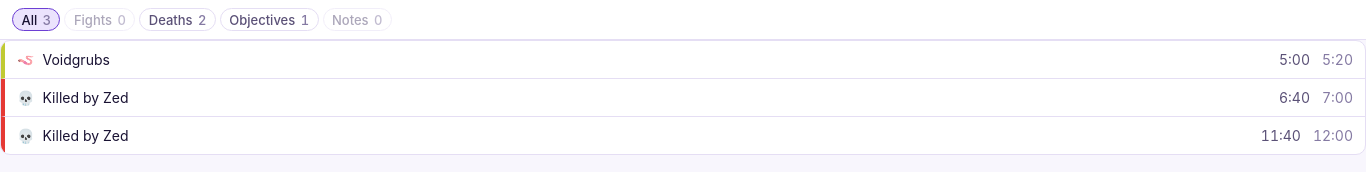
Test: the Events tab › filters to one kind of event, and counts each
This screenshot has width=1366, height=172.
What coordinates should you click on to do the following:
click the button with class "event-filter" showing "Deaths 2"
I would click on:
 (178, 20)
Its box is top-left (139, 8), bottom-right (216, 31).
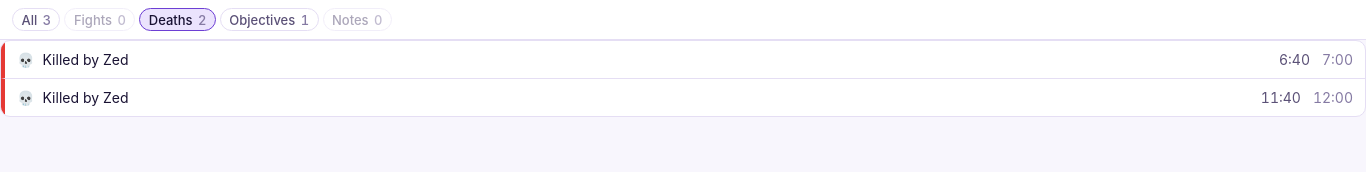
expect the number of list items is 2: met, box top-left (1, 41), bottom-right (1365, 79); top-left (1, 79), bottom-right (1365, 116)
expect the text "Voidgrubs" is gone: met
